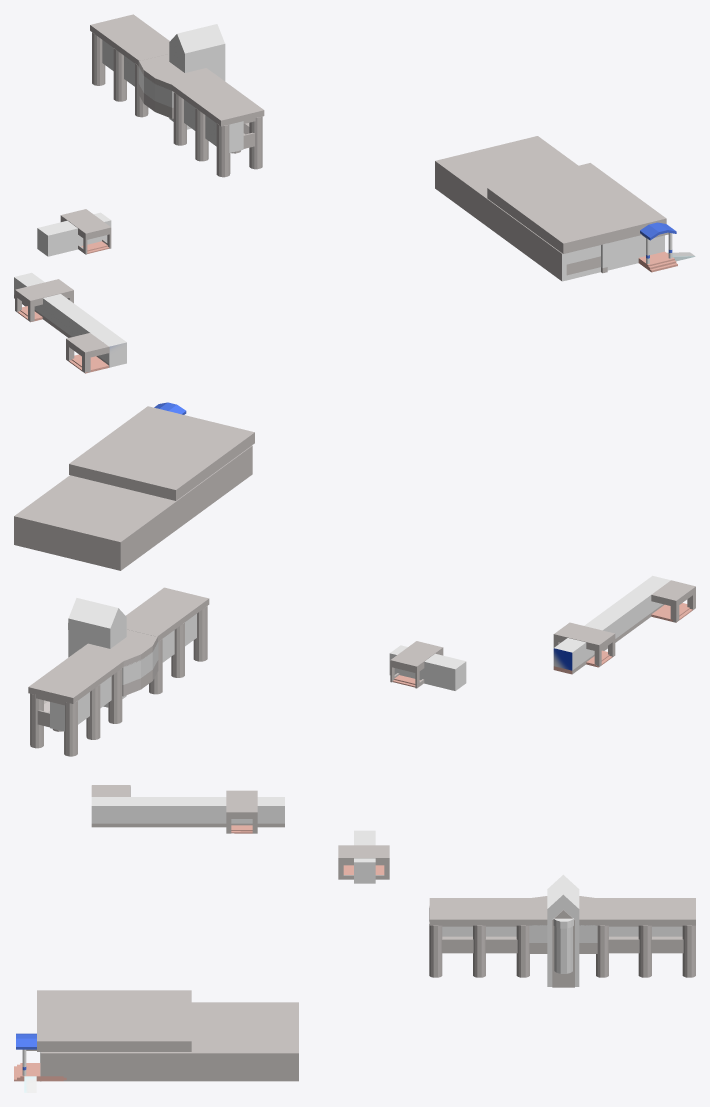
Rendered from tuuro_all.glb.
The picture shows the model from 3 angles, top to bottom: view 1: azimuth 30°, elevation 25°; view 2: azimuth 150°, elevation 25°; view 3: azimuth 270°, elevation 25°; orthographic projection. The views are drawn at different scales.
Parts seen in each view (by area): view 1: 体育館前スペース・屋根装飾土台, 体育館行通路, 渡り廊下・屋根_1, 渡り廊下・支柱, 食堂・学生寮側通路, 渡り廊下・階段部分, 体育館・昇降口・壁, 渡り廊下・後方側, 食堂・本校者側通路, 渡り廊下・丸目の屋根, 食堂・学生寮側通路出入り口屋根, 食堂・本校舎側通路出入り口屋根 (+2 smaller); view 2: 体育館行通路, 体育館前スペース・屋根装飾土台, 渡り廊下・屋根_1, 渡り廊下・支柱, 食堂・学生寮側通路, 渡り廊下・階段部分, 食堂・本校者側通路, 渡り廊下・後方側, 渡り廊下・丸目の屋根, 食堂・学生寮側通路出入り口屋根, 食堂・本校舎側通路出入り口屋根, 食堂・学生寮側通路出入り口屋根_2 (+1 smaller); view 3: 体育館行通路, 体育館前スペース・屋根装飾土台, 渡り廊下・屋根_1, 食堂・学生寮側通路, 渡り廊下・支柱, 渡り廊下・ベランダ, 渡り廊下・階段部分, 渡り廊下・後方側, 食堂・本校舎側通路出入り口屋根, 食堂・学生寮側通路出入り口屋根, 渡り廊下・丸目の屋根, 食堂・本校者側通路 (+5 smaller).
Boxes of the visible parts, <box> form: 体育館前スペース・屋根装飾土台: <box>487,163,666,253</box>; 体育館行通路: <box>435,136,653,281</box>; 渡り廊下・屋根_1: <box>90,14,264,126</box>; 渡り廊下・支柱: <box>92,32,262,177</box>; 食堂・学生寮側通路: <box>14,272,126,367</box>; 渡り廊下・階段部分: <box>169,24,225,129</box>; 体育館・昇降口・壁: <box>566,235,664,280</box>; 渡り廊下・後方側: <box>102,40,243,152</box>; 食堂・本校者側通路: <box>37,212,111,256</box>; 渡り廊下・丸目の屋根: <box>138,54,213,90</box>; 食堂・学生寮側通路出入り口屋根: <box>15,279,73,321</box>; 食堂・本校舎側通路出入り口屋根: <box>60,209,111,254</box>; 体育館行通路: <box>14,445,252,570</box>; 体育館前スペース・屋根装飾土台: <box>69,406,254,500</box>; 渡り廊下・屋根_1: <box>28,587,209,703</box>; 渡り廊下・支柱: <box>30,606,207,756</box>; 食堂・学生寮側通路: <box>553,575,670,674</box>; 渡り廊下・階段部分: <box>68,598,126,707</box>; 食堂・本校者側通路: <box>389,645,466,690</box>; 渡り廊下・後方側: <box>50,614,196,731</box>; 渡り廊下・丸目の屋根: <box>80,629,157,666</box>; 食堂・学生寮側通路出入り口屋根: <box>553,622,615,666</box>; 食堂・本校舎側通路出入り口屋根: <box>390,641,443,688</box>; 食堂・学生寮側通路出入り口屋根_2: <box>651,580,695,622</box>; 体育館行通路: <box>40,1002,298,1081</box>; 体育館前スペース・屋根装飾土台: <box>37,990,191,1051</box>; 渡り廊下・屋根_1: <box>429,898,695,925</box>; 食堂・学生寮側通路: <box>91,797,284,827</box>; 渡り廊下・支柱: <box>429,906,695,977</box>; 渡り廊下・ベランダ: <box>441,936,683,953</box>; 渡り廊下・階段部分: <box>547,874,579,986</box>; 渡り廊下・後方側: <box>442,926,682,936</box>; 食堂・本校舎側通路出入り口屋根: <box>338,845,389,879</box>; 食堂・学生寮側通路出入り口屋根: <box>226,790,257,833</box>; 渡り廊下・丸目の屋根: <box>532,896,595,925</box>; 食堂・本校者側通路: <box>354,830,375,883</box>.
Bounding box in the file's own units: 25.65 × 3.87 × 25.8.
Materials: 1 (1 with a texture image).
